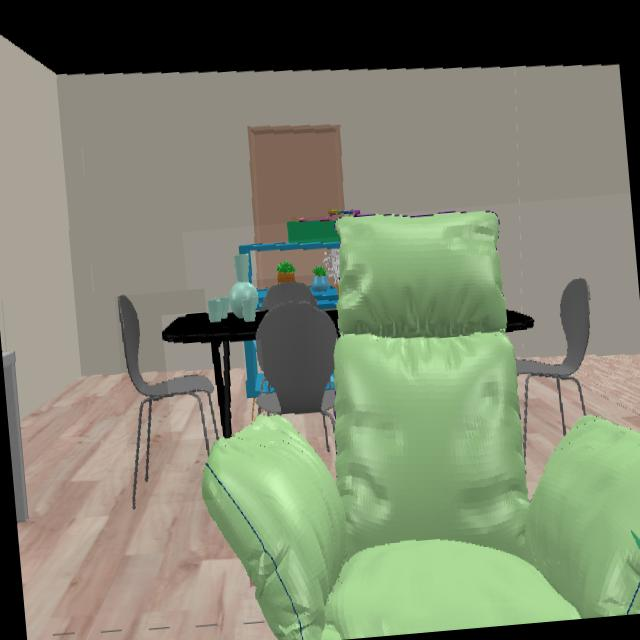chair: (118, 295, 213, 505), (516, 278, 590, 470), (258, 284, 336, 421)
shelf: (239, 242, 338, 279), (245, 342, 263, 396), (310, 288, 336, 310), (257, 288, 266, 306)
sofa: (203, 212, 640, 640)
table: (163, 311, 265, 436)
